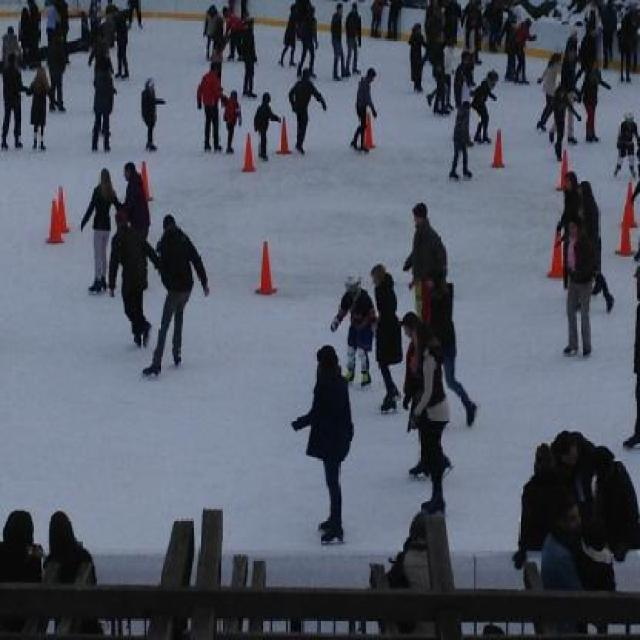Person: (512, 428, 638, 564), (291, 343, 355, 545), (143, 215, 211, 377), (423, 260, 477, 429), (407, 320, 456, 478), (44, 512, 104, 639), (539, 496, 592, 633), (109, 208, 160, 346), (0, 512, 46, 639), (330, 270, 378, 384), (80, 167, 122, 291), (426, 0, 516, 51), (578, 181, 614, 307), (566, 216, 596, 355), (122, 164, 158, 268), (378, 274, 404, 418), (288, 67, 328, 153), (405, 202, 446, 282), (282, 0, 320, 77), (2, 55, 32, 147), (27, 66, 59, 152), (580, 54, 608, 141), (196, 61, 222, 150), (93, 59, 116, 153), (534, 51, 560, 132), (352, 70, 377, 152), (450, 98, 475, 179), (253, 93, 282, 161), (471, 67, 497, 142), (560, 43, 578, 145), (141, 77, 165, 151), (332, 4, 352, 81), (614, 114, 638, 178), (555, 171, 582, 227), (402, 310, 418, 404), (516, 17, 538, 83), (222, 88, 244, 149), (343, 0, 360, 71), (241, 18, 257, 93), (454, 49, 474, 106), (224, 7, 247, 55), (409, 26, 426, 88), (618, 12, 632, 85), (44, 1, 62, 56), (18, 1, 36, 54), (203, 5, 225, 46), (504, 16, 518, 78), (116, 10, 129, 76), (369, 265, 394, 297), (369, 0, 388, 37), (28, 0, 40, 51), (386, 0, 401, 38), (3, 24, 19, 50)
